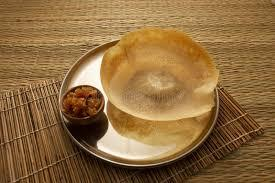Hoppers: (97, 21, 225, 126)
